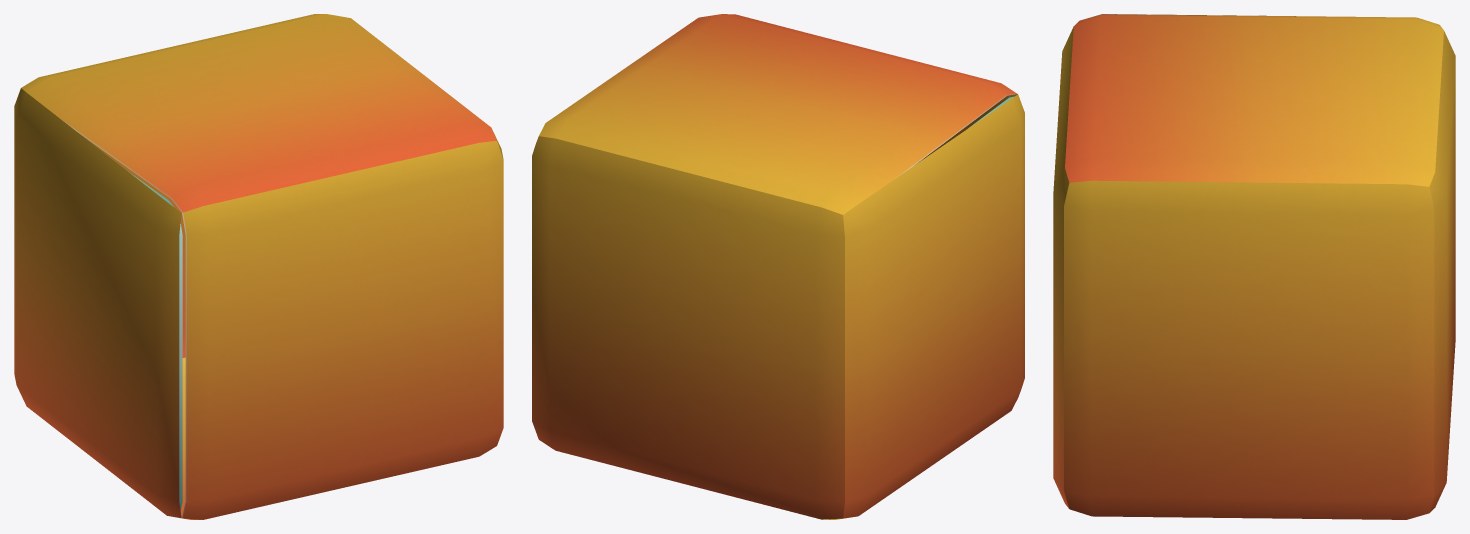
File: Props_Box_01.fbx
3 renders of one model, left to right at view 1: azimuth 30°, elevation 25°; view 2: azimuth 150°, elevation 25°; view 3: azimuth 270°, elevation 25°, orthographic. The views are drawn at different scales.
Parts seen in each view (by area): view 1: Props_Box_01; view 2: Props_Box_01; view 3: Props_Box_01.
Part boxes in pixels (x1,y1,x2,y2): Props_Box_01: (14, 14, 503, 519); Props_Box_01: (532, 14, 1024, 519); Props_Box_01: (1053, 14, 1455, 519).
Size of the model in its own units: 56.84 by 52.32 by 53.48.
